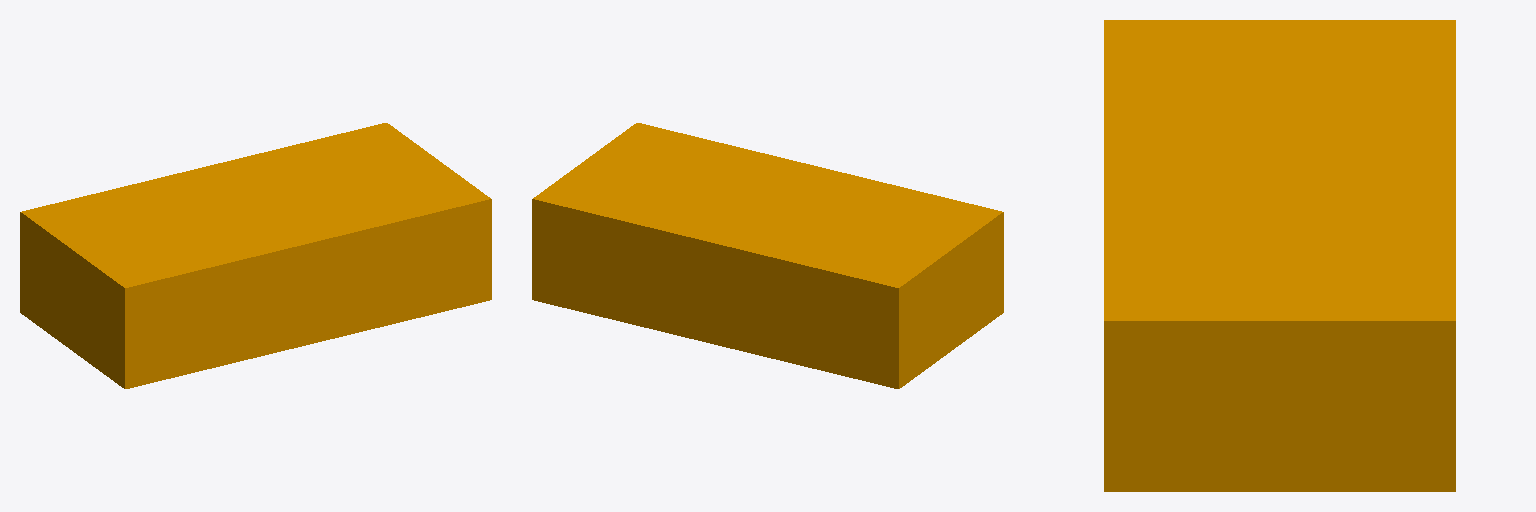
URDF robot description (red_box):
<?xml version="1.0"?>
<robot name="red_box">
  <mujoco>
      <compiler meshdir="[local-path]/Desktop/development/cito_ws/src/cito/model/mesh/" balanceinertia="false"/>
  </mujoco>

  <link name="object_link">
    <visual>
      <origin xyz="0 0 0" rpy="0 0 0"/>
      <geometry>
        <box size="0.3015 0.149 0.0796"/>
      </geometry>
    </visual>
    <collision>
      <origin xyz="0 0 0" rpy="0 0 0"/>
      <geometry>
        <box size="0.3015 0.149 0.0796"/>
      </geometry>
    </collision>
    <inertial>
      <origin xyz="0 0 0" rpy="0 0 0"/>
      <mass value="0.155"/>
      <inertia ixx="0.0003686049833333333" ixy="0.0" ixz="0.0" iyy="0.001255996129167" iyz="0.0" izz="0.001460916979167"/>
    </inertial>
  </link>

  <link name="base_link"/>

  <joint name="object" type="floating">
    <!-- <origin xyz="0.15075 0.0745 0.5" rpy="0 0 0"/> -->
    <parent link="base_link"/>
    <child  link="object_link"/>
  </joint>
  
</robot>

--- What the picture shows (computed from the rendered views, not written in the file) ---
3 views of the same robot in one strip: view 1: azimuth 30°, elevation 25°; view 2: azimuth 150°, elevation 25°; view 3: azimuth 270°, elevation 25° (orthographic).
Model red_box with 2 links and 1 joints (1 floating), rooted at base_link, posed all joints at 0.
Links seen in each view (by area): view 1: object_link; view 2: object_link; view 3: object_link.
Link boxes in pixels (x1=…): object_link: x1=20, y1=123, x2=491, y2=388; object_link: x1=532, y1=123, x2=1003, y2=388; object_link: x1=1104, y1=20, x2=1455, y2=491.
Bounding box of the posed robot: 0.3015 × 0.149 × 0.0796 m (x, y, z).
Geometry: primitives only (box / cylinder / sphere), no mesh files.